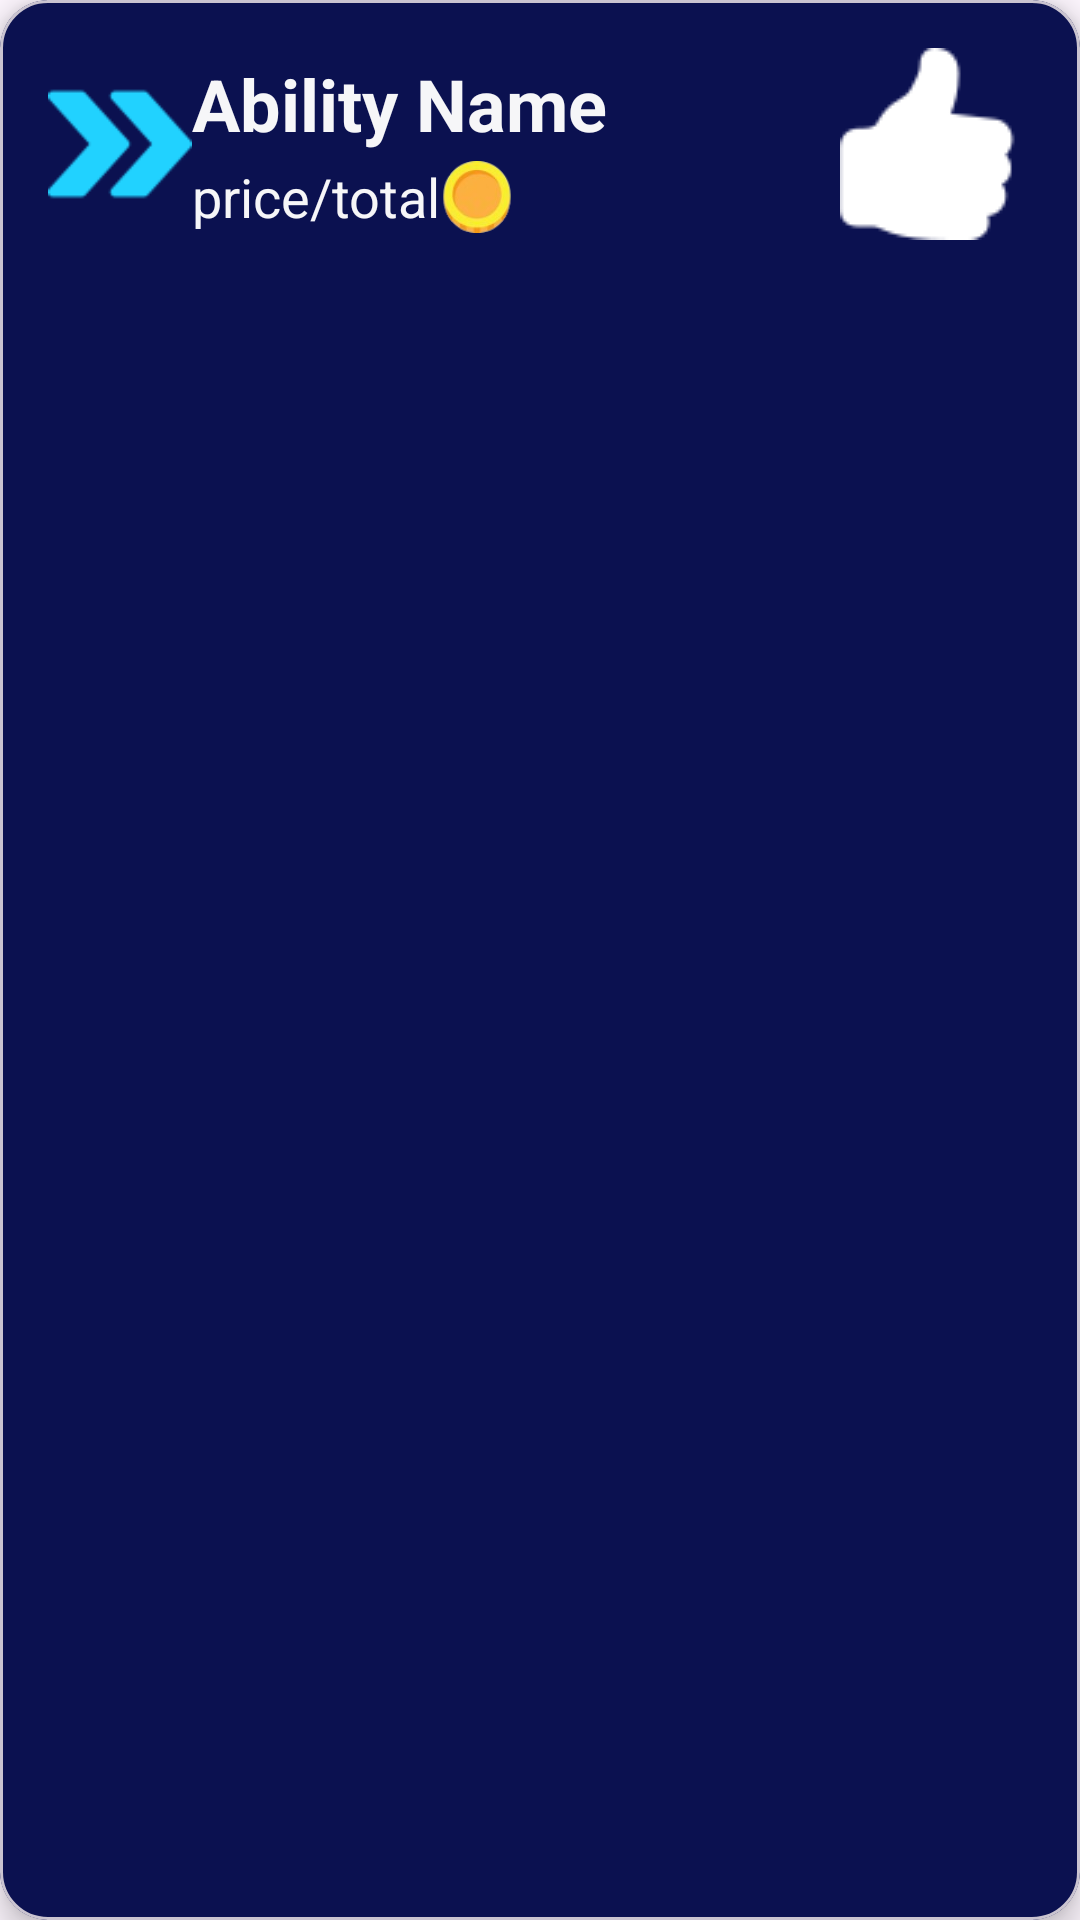

Screen size 1080×1920. Icon name, then its box in pixels as bbox=(x1, y1, x2, y2):
coin: bbox=(443, 161, 511, 233)
like: bbox=(840, 48, 1015, 240)
